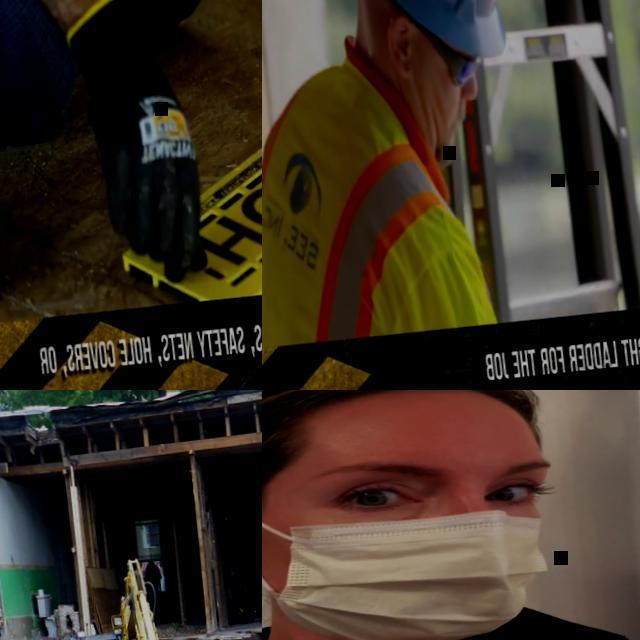helmet: (324, 0, 513, 67)
vest: (262, 50, 496, 349)
